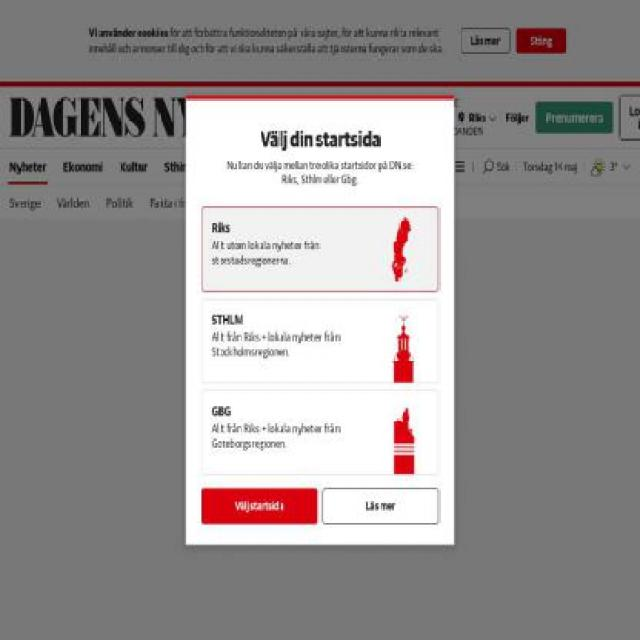button: (10, 96, 332, 139), (200, 488, 318, 524), (323, 488, 439, 524), (535, 101, 614, 134), (148, 185, 207, 220), (331, 149, 378, 185), (393, 149, 439, 185), (221, 185, 268, 220), (62, 149, 104, 185), (282, 185, 324, 220), (8, 149, 48, 185), (454, 149, 489, 185), (55, 185, 91, 220), (459, 29, 510, 53), (516, 29, 567, 53), (282, 149, 316, 185), (407, 111, 501, 124), (407, 125, 501, 138), (8, 185, 41, 220), (407, 97, 501, 109), (118, 149, 148, 185), (163, 149, 192, 185), (106, 185, 134, 220), (241, 149, 268, 185), (619, 94, 639, 140), (589, 157, 631, 177), (206, 149, 228, 185), (353, 111, 407, 124), (353, 125, 407, 138), (353, 97, 407, 109), (456, 111, 501, 124), (478, 159, 511, 175), (505, 111, 530, 124)
